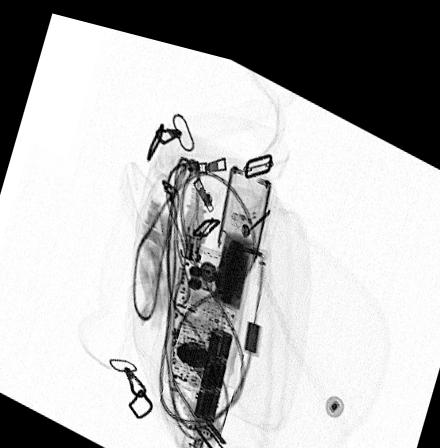Baton: (178, 152, 273, 448)
